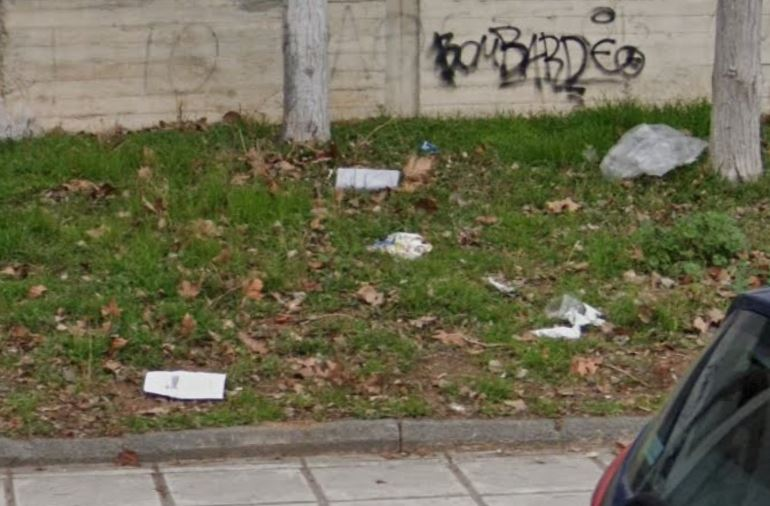trash: (589, 109, 713, 188), (486, 269, 608, 349), (139, 362, 228, 408), (326, 164, 412, 199), (369, 223, 431, 259)
